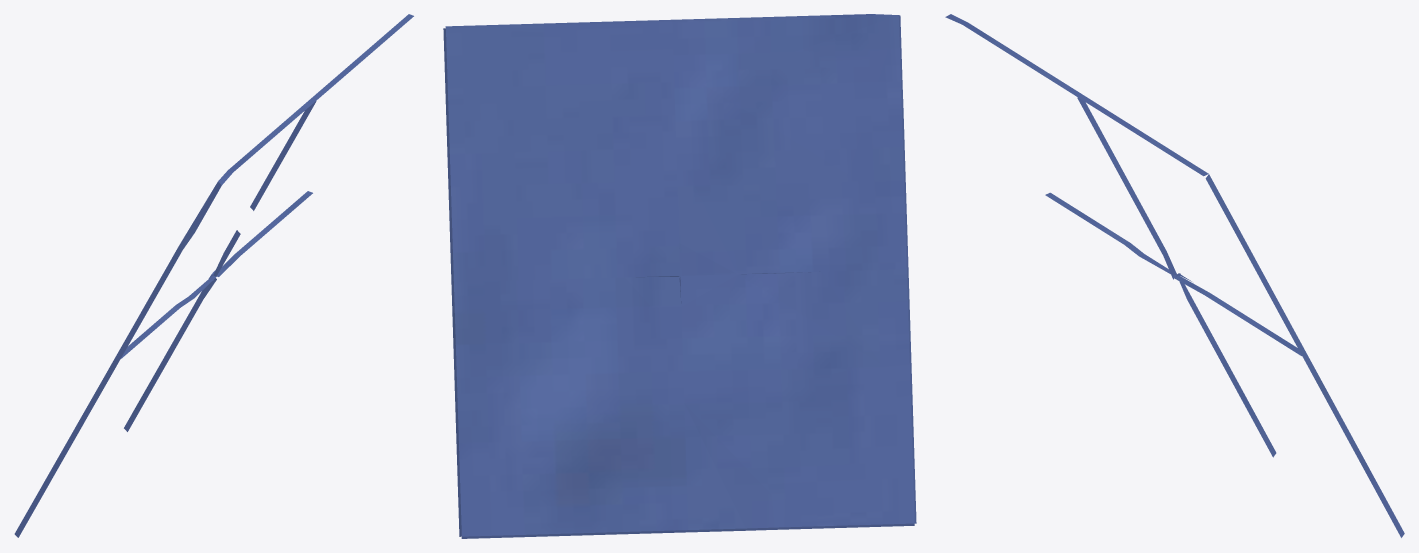
The picture shows the model from 3 angles, left to right: view 1: azimuth 30°, elevation 25°; view 2: azimuth 150°, elevation 25°; view 3: azimuth 270°, elevation 25°; orthographic projection. The views are drawn at different scales.
Bounding box in the file's own units: 39394 × 35283 × 34960.
Materials: 1 (1 with a texture image).
